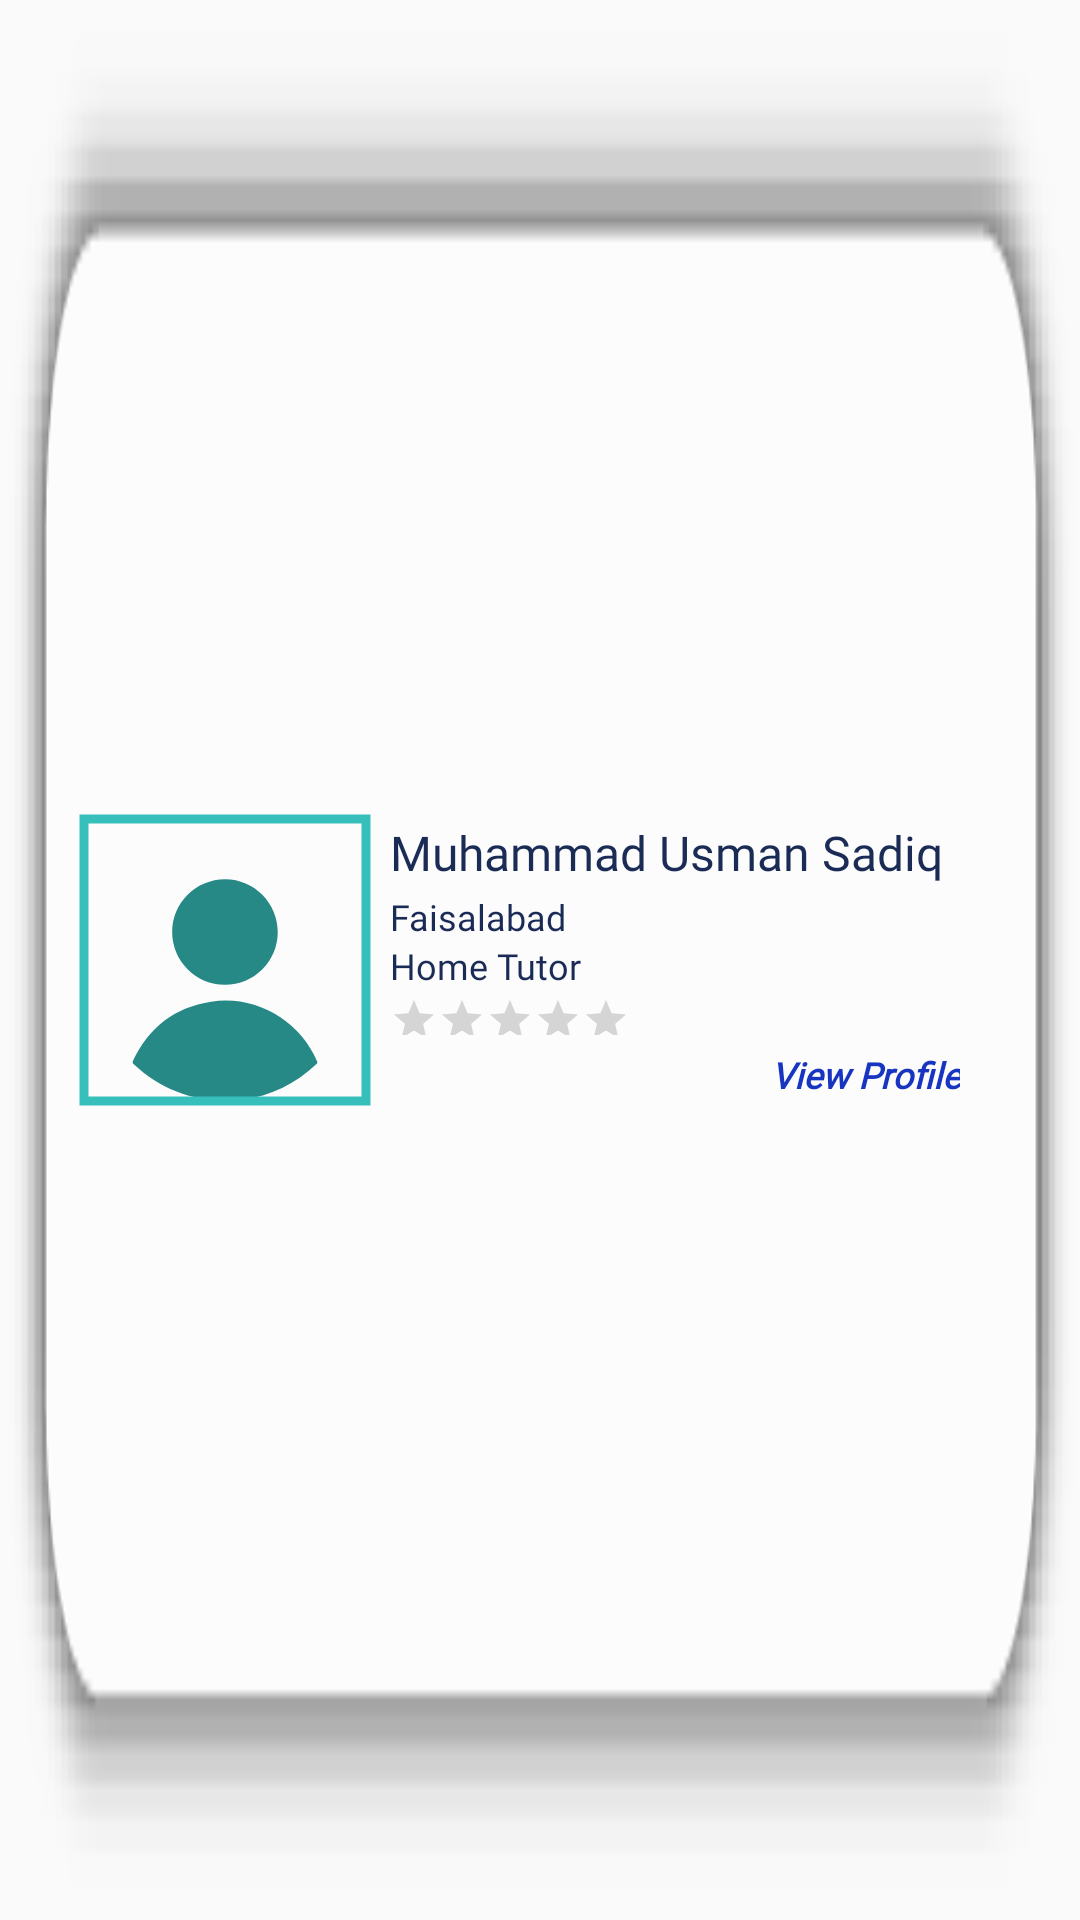

Screen size 1080w x 1920h. Icon name, then its box in pixels as (x1, y1, x2, y2):
enter profile: (79, 814, 371, 1106)
